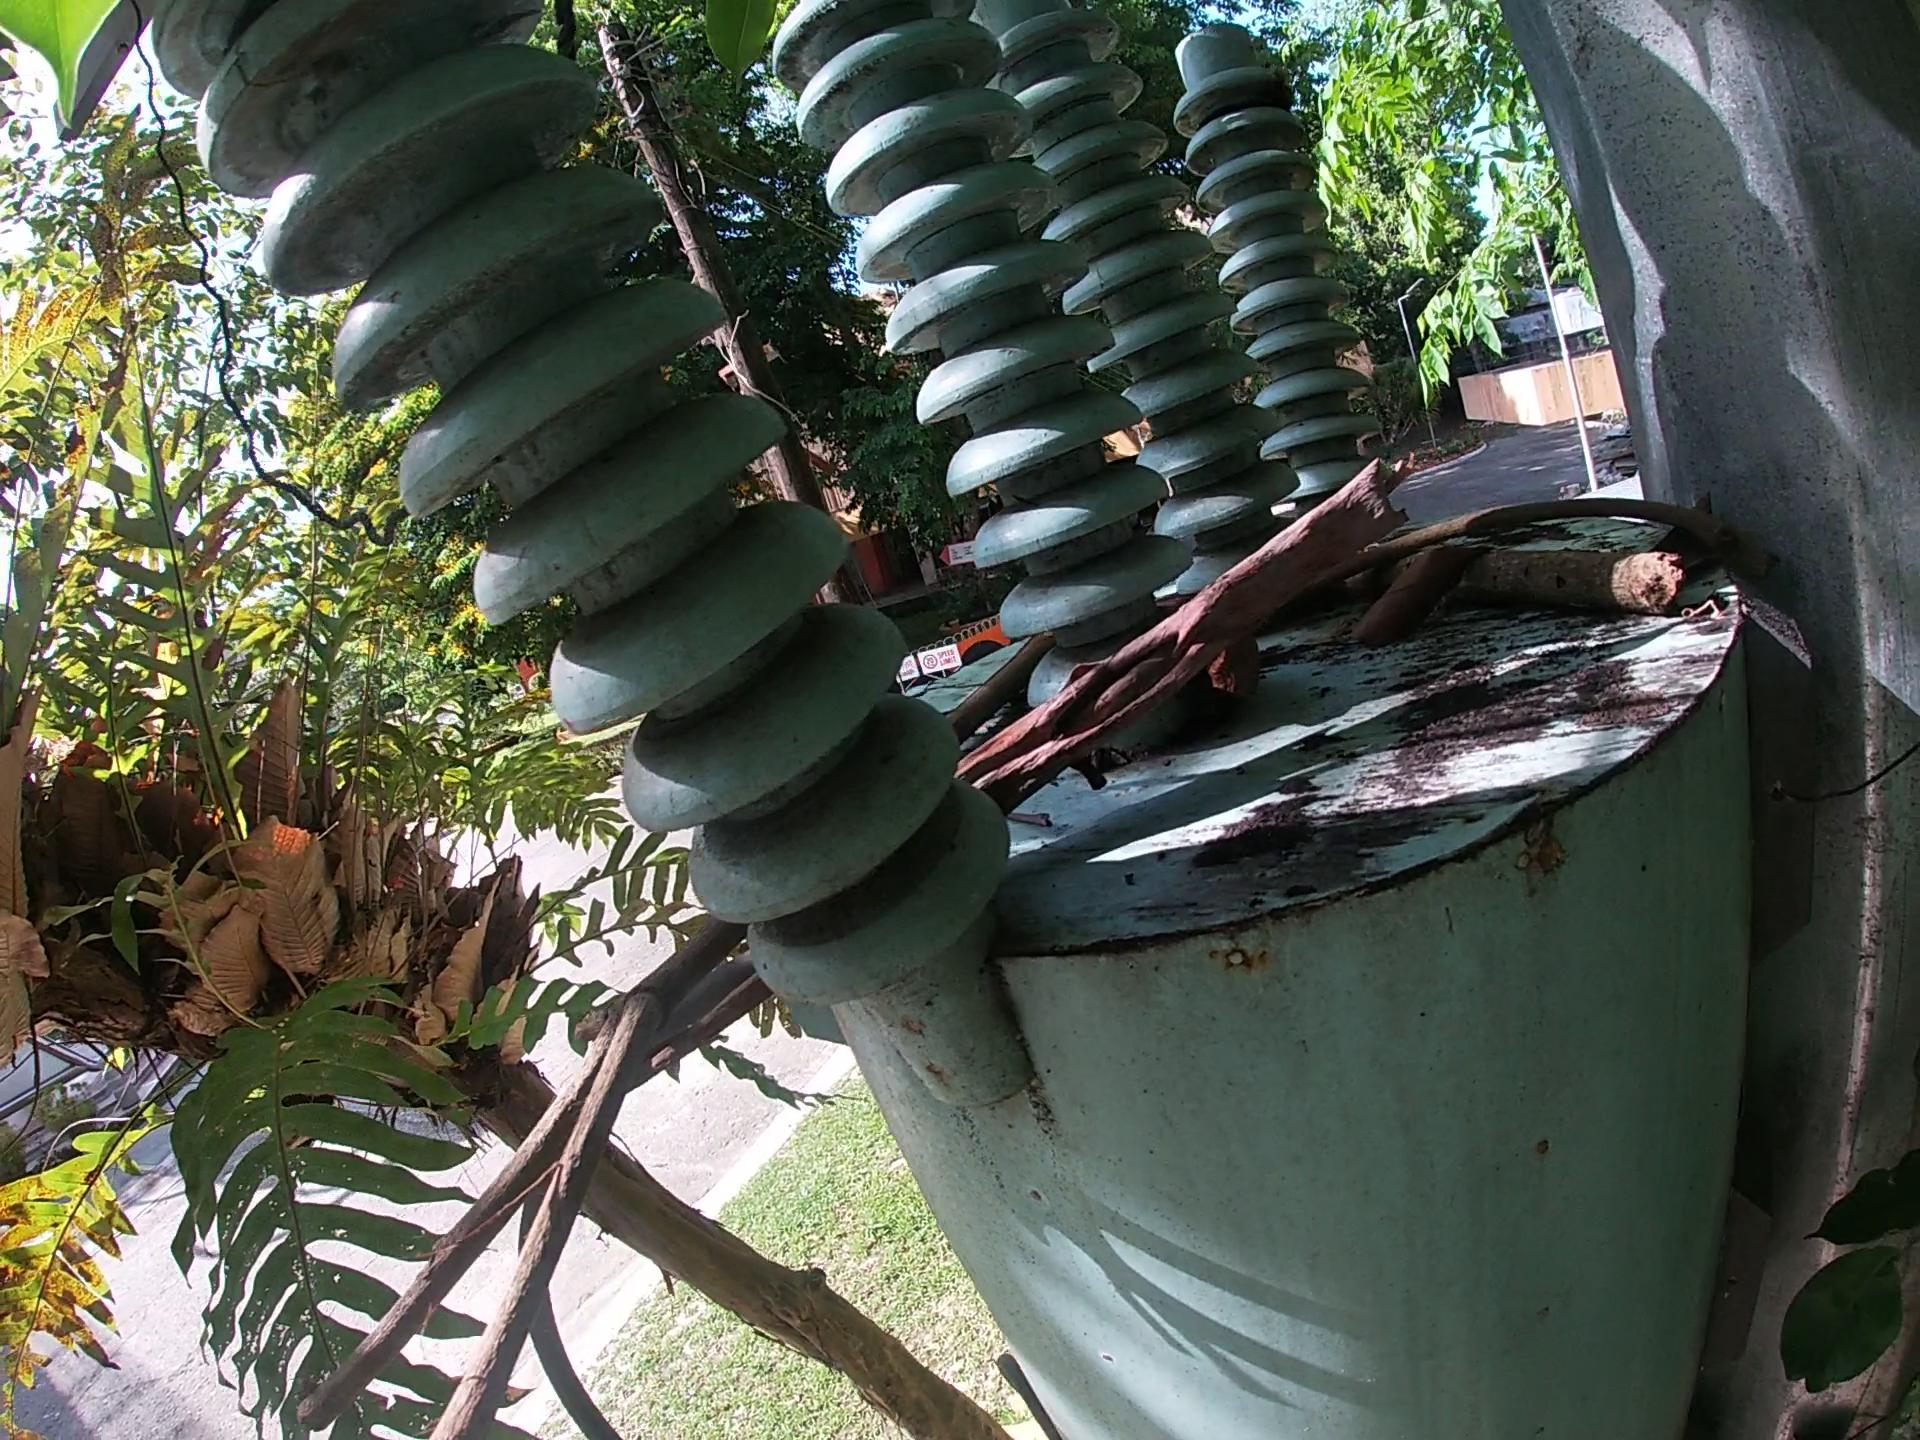leaf: (1333, 542, 1483, 635), (1655, 498, 1730, 560)
mahogany fruit: (1197, 644, 1264, 732)
tree branch: (269, 915, 738, 1432), (965, 442, 1439, 809), (1333, 489, 1751, 573), (1335, 534, 1717, 597), (652, 970, 780, 1097), (955, 644, 1052, 732)
